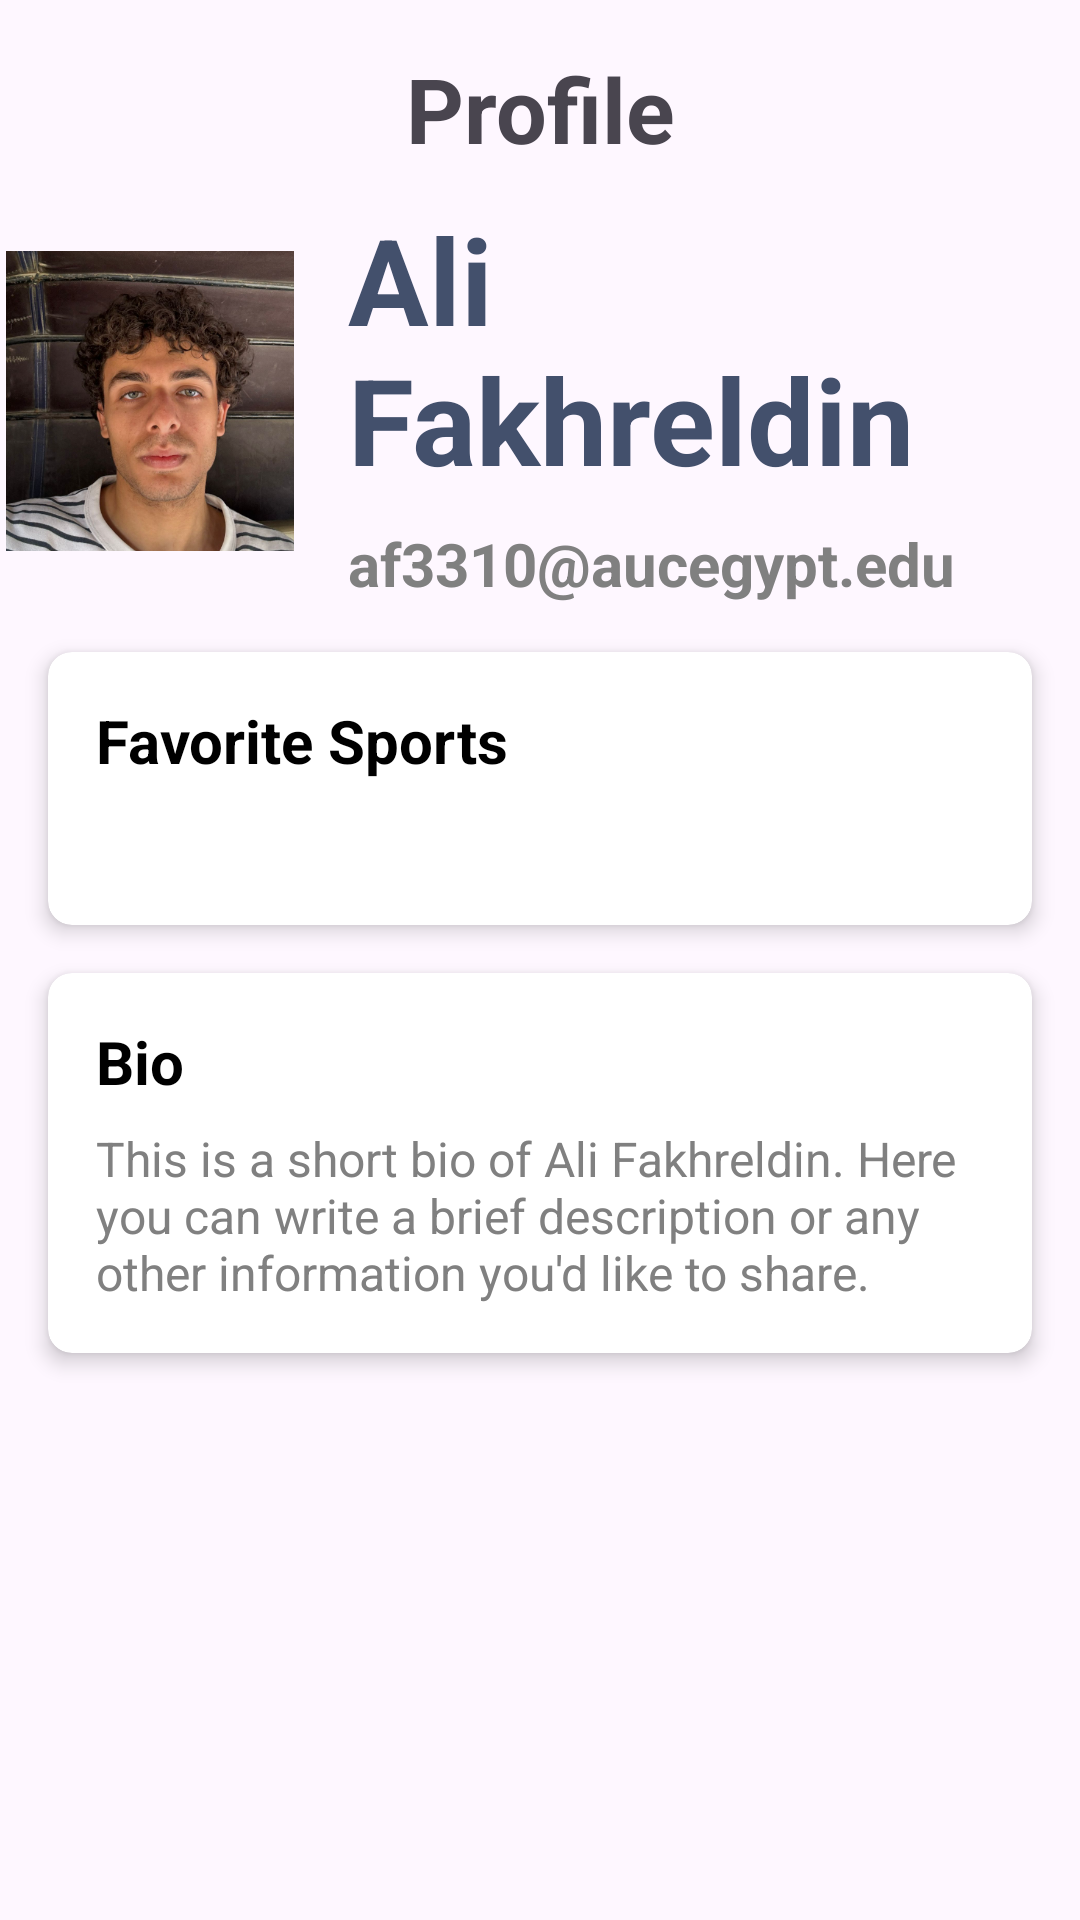

Icon click points for this 1080×1920 phone screenshot, format [x,y]:
pictureofme: [150,401]
